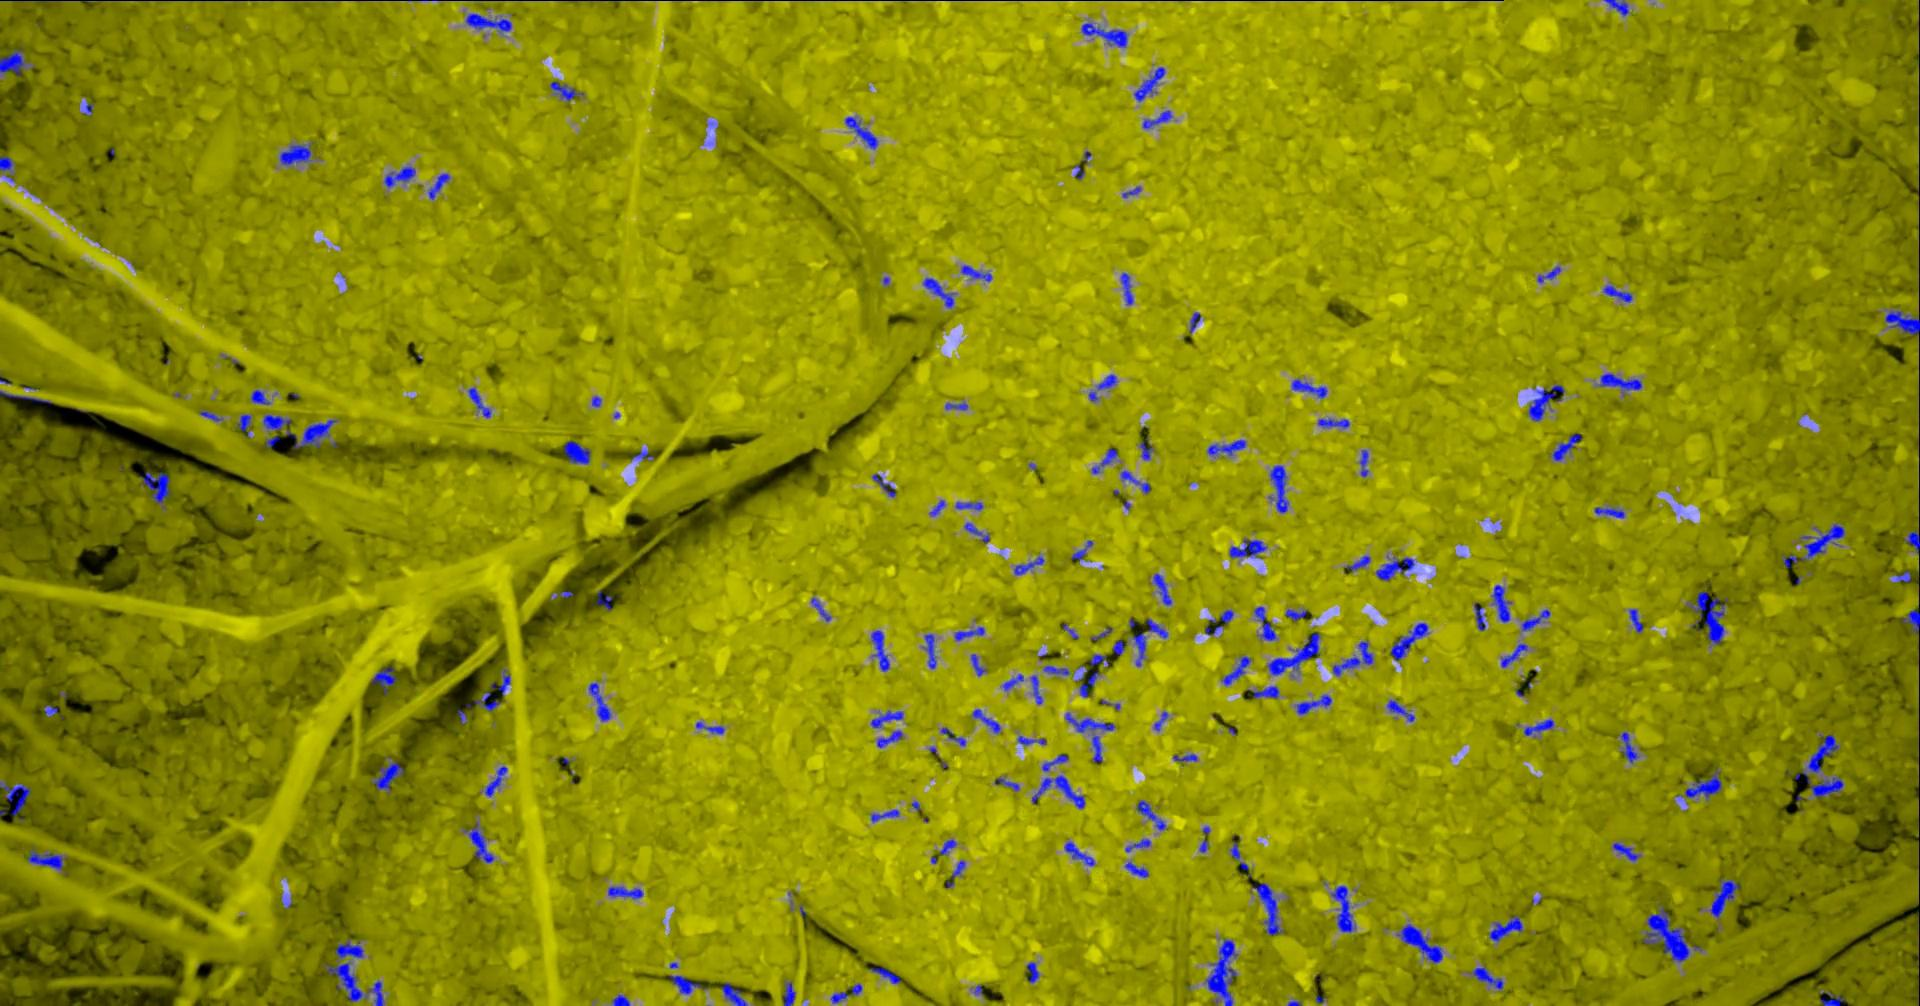ant: (1796, 734, 1845, 796), (1783, 523, 1846, 567), (325, 962, 385, 1005), (1688, 589, 1730, 644), (1269, 633, 1321, 674), (1208, 937, 1239, 1005), (1032, 774, 1086, 808), (1398, 923, 1444, 963), (1253, 882, 1286, 935), (1392, 622, 1430, 661), (1677, 767, 1723, 799), (288, 419, 338, 448), (1335, 640, 1375, 674), (463, 822, 497, 862), (1530, 384, 1566, 420), (1712, 876, 1742, 918), (1332, 885, 1357, 932), (1083, 22, 1129, 47), (141, 471, 171, 508), (846, 116, 879, 149), (1135, 66, 1166, 102), (1, 782, 33, 815), (924, 277, 956, 307), (375, 760, 405, 791), (1270, 465, 1290, 512), (1377, 556, 1416, 580), (1067, 713, 1116, 732), (29, 845, 66, 870), (1490, 915, 1524, 941), (467, 13, 513, 32), (1886, 310, 1920, 335), (590, 682, 613, 720), (1223, 655, 1252, 685), (1138, 800, 1167, 829), (1255, 606, 1277, 640), (1554, 433, 1583, 460), (872, 630, 891, 671), (1065, 841, 1096, 866), (372, 666, 397, 695), (551, 80, 585, 102), (1230, 539, 1269, 558), (1493, 584, 1512, 622), (670, 976, 709, 995), (1298, 694, 1333, 714), (281, 144, 314, 165), (974, 708, 1002, 733), (1293, 379, 1330, 398), (486, 766, 509, 796), (1474, 967, 1505, 989), (1601, 373, 1643, 390), (469, 387, 491, 417), (1123, 470, 1152, 493), (1, 390, 53, 403), (1901, 608, 1920, 643), (1, 50, 27, 75), (385, 166, 417, 187), (1620, 730, 1641, 762), (565, 439, 592, 464), (1502, 643, 1529, 667), (1388, 699, 1416, 721), (1523, 608, 1552, 630), (1015, 555, 1045, 575), (1093, 448, 1119, 473), (723, 982, 749, 1005), (1154, 573, 1173, 605), (1079, 669, 1101, 697), (1208, 439, 1247, 455), (475, 691, 503, 711), (337, 937, 364, 958), (872, 473, 897, 495), (1144, 111, 1175, 128), (430, 173, 451, 199), (491, 668, 512, 695), (947, 860, 968, 887), (872, 710, 904, 727), (1605, 285, 1634, 302), (1525, 719, 1556, 735), (871, 967, 902, 983), (924, 633, 938, 668), (1614, 842, 1642, 860), (1072, 540, 1095, 561), (966, 522, 990, 542), (811, 597, 832, 621), (942, 727, 968, 746), (264, 414, 293, 431), (963, 265, 993, 281), (1043, 754, 1070, 771), (877, 730, 904, 747), (1250, 685, 1280, 699), (1820, 989, 1848, 1005), (1134, 633, 1147, 666), (1148, 619, 1170, 638), (956, 626, 985, 640), (1123, 272, 1135, 304), (1538, 265, 1562, 282), (1347, 555, 1371, 572), (610, 887, 644, 898), (1605, 0, 1630, 15), (1905, 528, 1920, 554), (697, 721, 726, 734), (872, 809, 902, 822), (1126, 861, 1150, 876), (597, 589, 615, 610), (971, 654, 988, 676), (1, 155, 15, 180), (237, 414, 253, 437), (1630, 608, 1644, 633), (783, 981, 797, 1005), (1004, 673, 1025, 690), (1596, 506, 1625, 517), (1032, 674, 1044, 704), (1319, 418, 1351, 428), (996, 777, 1021, 790), (1476, 602, 1487, 630), (251, 389, 272, 404), (1128, 838, 1152, 851), (1018, 735, 1048, 746), (1206, 617, 1224, 634), (1098, 373, 1117, 389), (1286, 608, 1309, 621), (1093, 734, 1103, 762), (1142, 437, 1154, 459), (957, 500, 984, 511), (1201, 826, 1211, 852), (940, 840, 957, 855), (1156, 711, 1170, 730), (201, 409, 223, 420), (632, 448, 655, 460), (1027, 962, 1040, 982), (931, 499, 946, 516), (1361, 448, 1370, 476), (832, 991, 850, 1005), (552, 589, 575, 600), (1091, 654, 1111, 666), (1045, 666, 1070, 674), (1191, 312, 1203, 332), (1222, 608, 1236, 622), (1175, 753, 1199, 761), (613, 995, 631, 1005), (267, 434, 281, 447), (1114, 640, 1126, 654), (44, 704, 58, 716), (946, 401, 969, 409), (1897, 570, 1912, 582), (1232, 841, 1241, 857)
